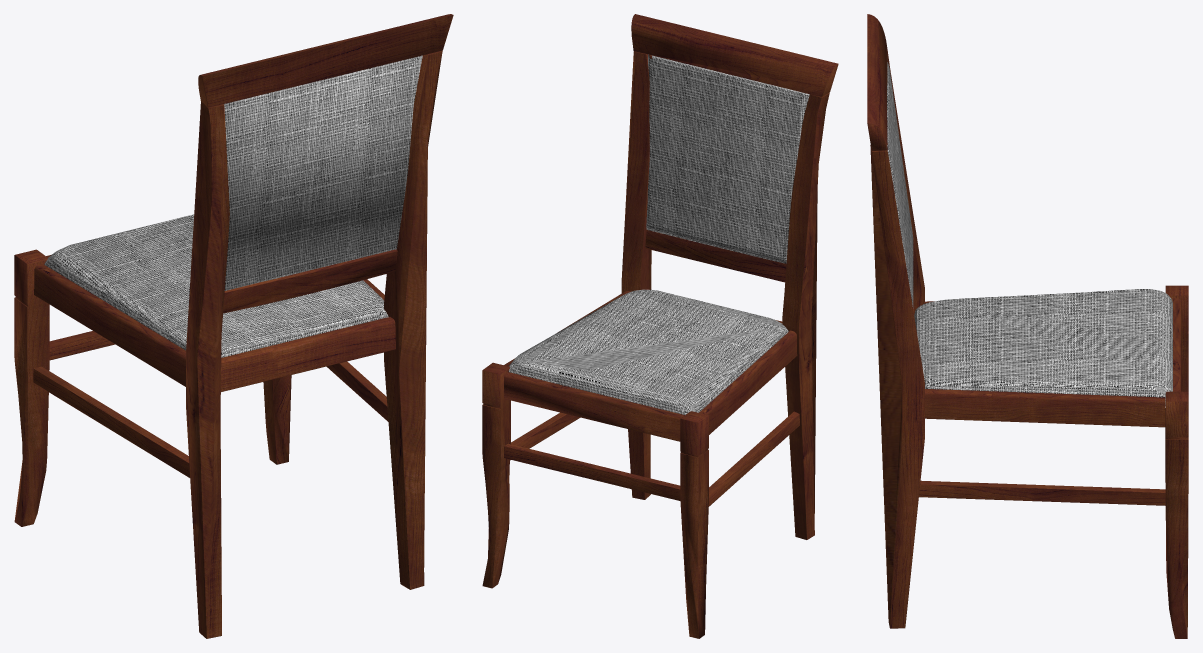
File: kitchen_chair.fbx
The picture shows the model from 3 angles, left to right: view 1: azimuth 30°, elevation 25°; view 2: azimuth 150°, elevation 25°; view 3: azimuth 270°, elevation 25°; orthographic projection. The views are drawn at different scales.
Parts seen in each view (by area): view 1: table&chair_Akacia_02; view 2: table&chair_Akacia_02; view 3: table&chair_Akacia_02.
Part boxes in pixels (bbox=[...]): table&chair_Akacia_02: bbox=[14, 14, 453, 638]; table&chair_Akacia_02: bbox=[482, 14, 838, 638]; table&chair_Akacia_02: bbox=[867, 14, 1188, 638].
Bounding box in the file's own units: 191 × 394 × 224.
